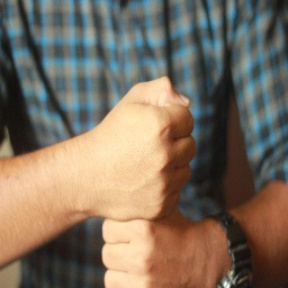G: (92, 75, 205, 288)
